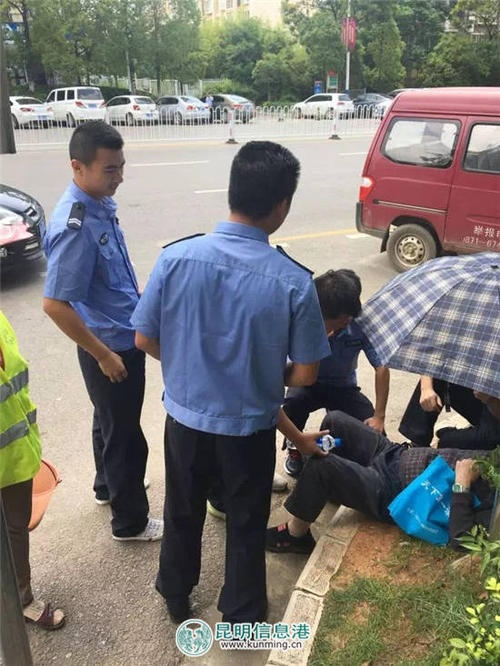falling: (258, 391, 495, 565)
